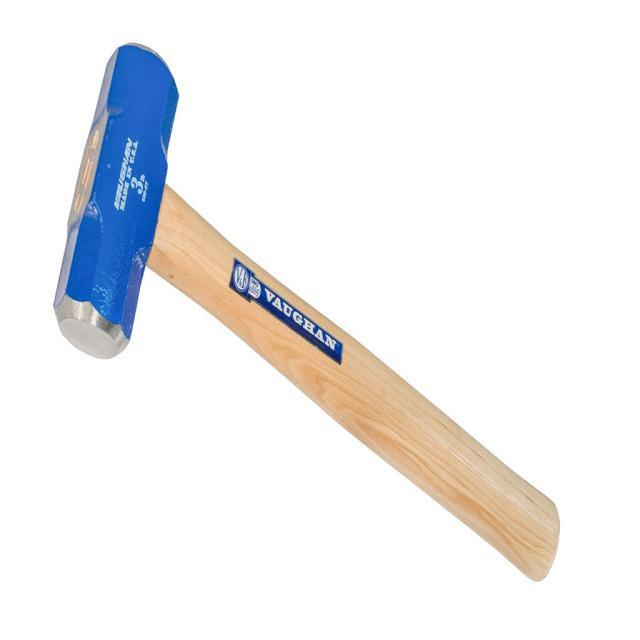hammer: (50, 30, 565, 590)
